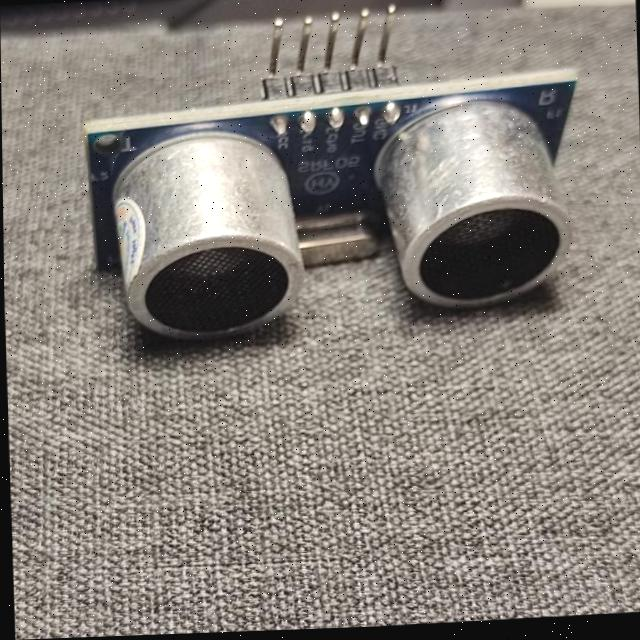Ultrasonic Sensor: (67, 0, 599, 357)
